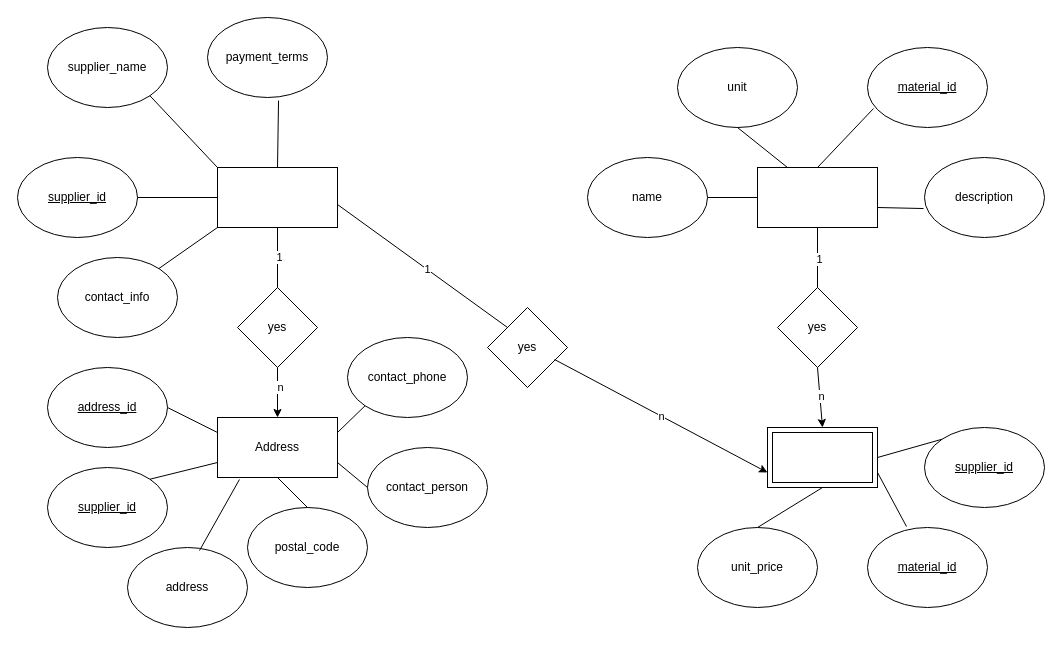
The diagram is 1062 pixels wide and 645 high, and some of its shapes have lost their labels. The shapes that lost their labels are listed below. From the top down, each one's centre as x and y in pixels, then its label:
At point (277, 197): "Supplier".
At point (817, 197): "Material".
At point (822, 457): "UnitPrice".
